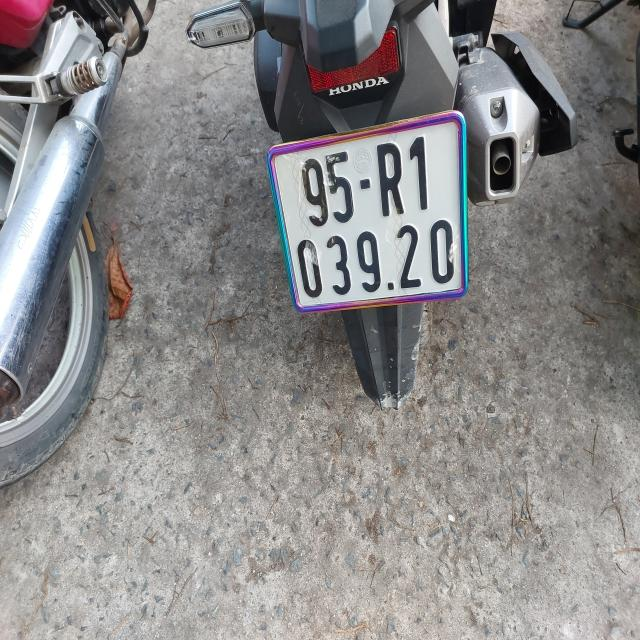0: (429, 217, 455, 284), (297, 238, 324, 298)
1: (409, 134, 434, 212)
3: (327, 233, 352, 296)
5: (326, 149, 355, 225)
9: (299, 156, 329, 228), (398, 220, 422, 289), (356, 231, 382, 294)
R: (375, 140, 406, 217)
